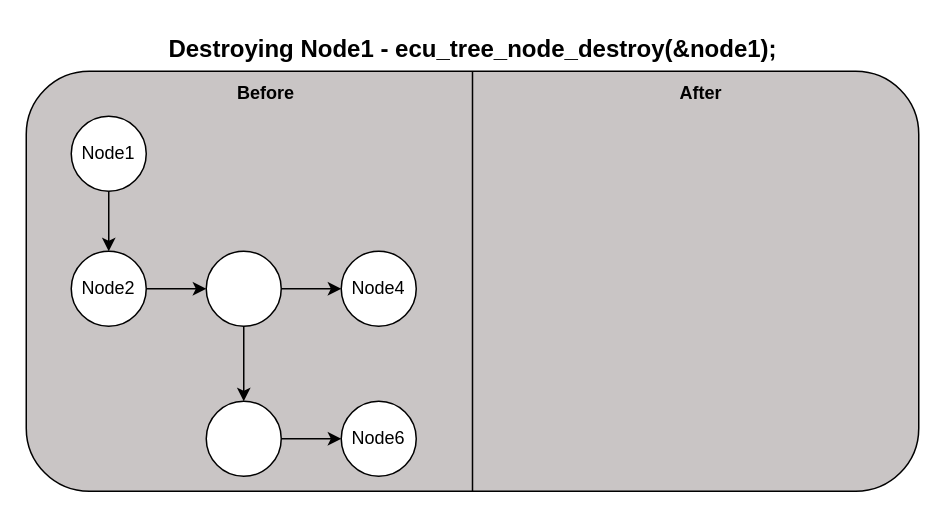
This 945x519 diagram has some shape labels left out. The centre of each missing label's shape, as x and y in pixels:
Node3: the point at 243,288
Node5: the point at 243,438
